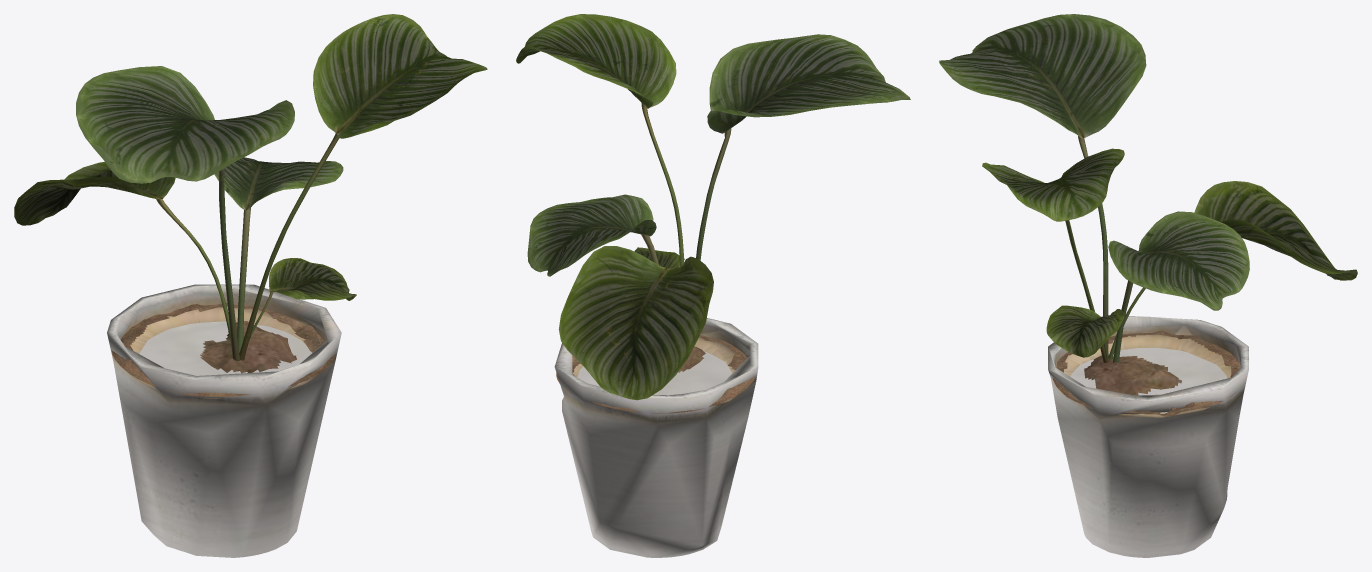
File: doniczka_kalatea_2.glb
The picture shows the model from 3 angles, left to right: view 1: azimuth 30°, elevation 25°; view 2: azimuth 150°, elevation 25°; view 3: azimuth 270°, elevation 25°; orthographic projection. The views are drawn at different scales.
Parts seen in each view (by area): view 1: doniczka, roslina, ziemia; view 2: roslina, doniczka, ziemia; view 3: roslina, doniczka, ziemia.
Boxes of the visible parts, x1,y1,x2,y2 form: doniczka: [107, 284, 341, 557]; roslina: [14, 14, 487, 371]; ziemia: [111, 303, 335, 396]; roslina: [516, 14, 910, 400]; doniczka: [554, 318, 758, 557]; ziemia: [556, 335, 755, 413]; roslina: [939, 14, 1357, 362]; doniczka: [1048, 316, 1248, 557]; ziemia: [1052, 330, 1239, 416].
Size of the model in its own units: 0.3752 by 0.4434 by 0.3838.
Materials: 2 (2 with a texture image).
